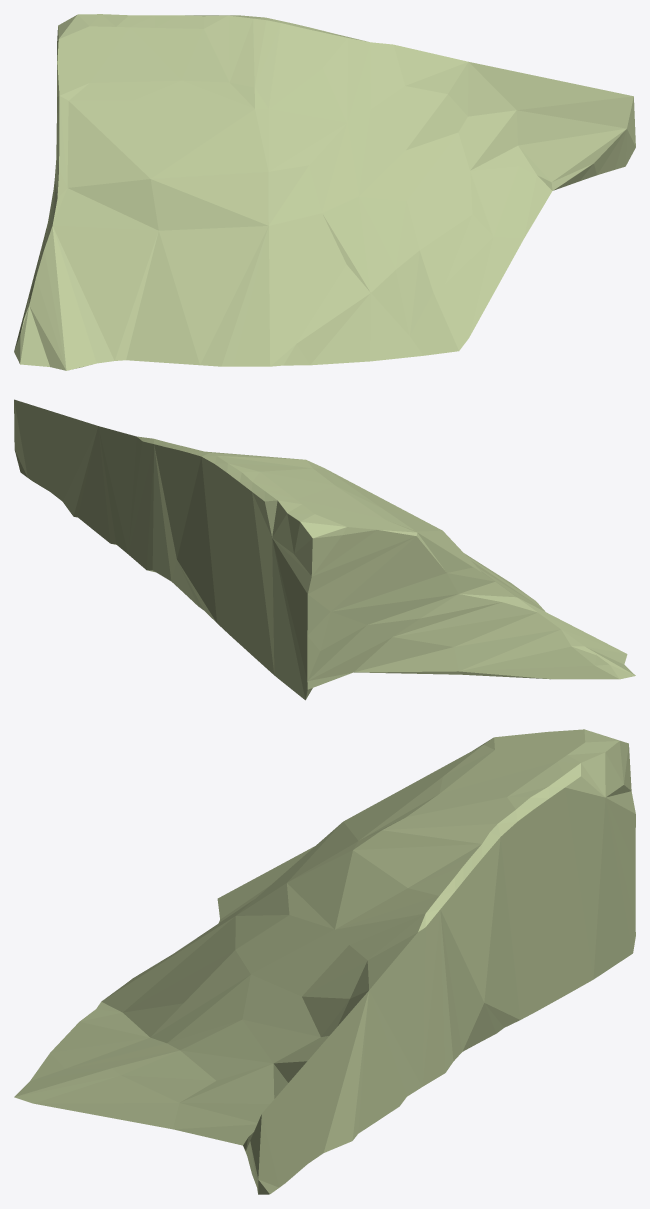
Rendered from hill_14.gltf.
3 renders of one model, top to bottom at view 1: azimuth 30°, elevation 25°; view 2: azimuth 150°, elevation 25°; view 3: azimuth 270°, elevation 25°, orthographic. The views are drawn at different scales.
Visible parts, largest first — view 1: hill; view 2: hill; view 3: hill.
Boxes of the visible parts, x1=… form: hill: x1=14, y1=14, x2=635, y2=370; hill: x1=14, y1=399, x2=635, y2=700; hill: x1=14, y1=729, x2=635, y2=1194.
Bounding box in the file's own units: 15.86 × 5.09 × 10.74.
